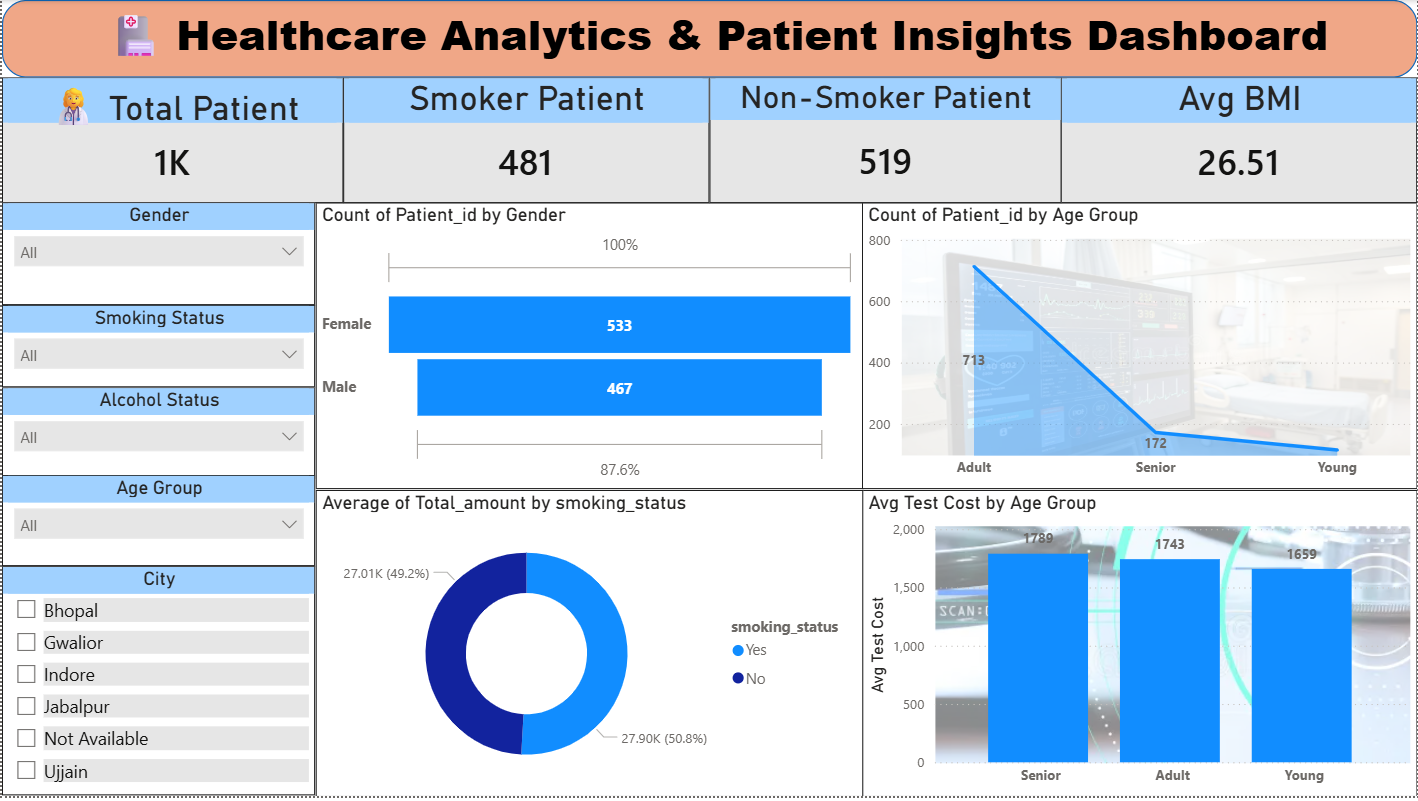

This screenshot's page, from the dashboard's own definition file:
{"tool":"powerbi","page":{"name":"Patient Insights","canvas":[1280,720],"ordinal":1},"visuals":[{"type":"columnChart","fields":{"Category":["patients.Age Group"],"Y":["hospital_visit.Avg Test Cost"]},"box":[778.3,443.1,502,277.7],"z":0},{"type":"donutChart","title":"Average of Total amount by smoking status","fields":{"Category":["lifestyle.smoking_status"],"Y":["Avg(medical_billing.Total_amount)"]},"box":[283.3,443.1,495,277.7],"z":1000},{"type":"funnel","title":"Count of Patient by Gender","fields":{"Category":["medical_cost_prediction patients.Gender"],"Y":["CountNonNull(medical_cost_prediction patients.Patient_id)"]},"box":[283.3,183.7,495,259.4],"z":2000},{"type":"stackedAreaChart","title":"Count of Patient by Age Group","fields":{"Category":["patients.Age Group"],"Y":["CountNonNull(patients.Patient_id)"]},"box":[778.3,183.7,502,259.4],"z":3000},{"type":"cardVisual","title":"Avg BMI","fields":{"Data":["lifestyle.Avg Bmi"]},"box":[957.8,70.1,322.5,113.6],"z":4000},{"type":"cardVisual","title":"Non-Smoker Patient","fields":{"Data":["medical_cost_prediction lifestyle.Non-Smooker"]},"box":[639.4,70.1,318.3,113.6],"z":5000},{"type":"cardVisual","title":"👩⚕️ Total Patient","fields":{"Data":["medical_cost_prediction hospital_visit.Total Patient"]},"box":[0,70.1,308.5,113.6],"z":6000},{"type":"cardVisual","title":"Smoker Patient","fields":{"Data":["medical_cost_prediction lifestyle.Smoking_Patient_Count"]},"box":[308.5,70.1,330.9,113.6],"z":7000},{"type":"slicer","title":"Gender ","fields":{"Values":["medical_cost_prediction patients.Gender"]},"box":[0,183.7,283.3,92.6],"z":8000},{"type":"slicer","title":"Smoking Status","fields":{"Values":["medical_cost_prediction lifestyle.smoking_status"]},"box":[0,276.2,283.3,74.3],"z":9000},{"type":"slicer","title":"Alcohol Status","fields":{"Values":["medical_cost_prediction lifestyle.alcohol_consumption"]},"box":[0,350.6,283.3,82.7],"z":10000},{"type":"slicer","title":"City ","fields":{"Values":["medical_cost_prediction patients.City"]},"box":[0,511.8,283.3,207.5],"z":11000},{"type":"slicer","title":"Age Group","fields":{"Values":["patients.Age Group"]},"box":[0,429.1,283.3,82.7],"z":12000},{"type":"shape","box":[0,0,1280.2,70.1],"z":13000},{"type":"textbox","box":[30.9,0,1232.6,70.1],"z":14000}]}

Visuals, with their boxes in screenshot pixels (x1, y1, x2, y2), scaled from the page's 1280x720 canvas onto the 1418x801 screenshot:
columnChart - patients.Age Group x hospital_visit.Avg Test Cost: l=862, t=493, r=1417, b=800
"Average of Total amount by smoking status" donutChart: l=314, t=493, r=862, b=800
"Count of Patient by Gender" funnel: l=314, t=204, r=862, b=493
"Count of Patient by Age Group" stackedAreaChart: l=862, t=204, r=1417, b=493
"Avg BMI" cardVisual: l=1061, t=78, r=1417, b=204
"Non-Smoker Patient" cardVisual: l=708, t=78, r=1061, b=204
"👩⚕️ Total Patient" cardVisual: l=0, t=78, r=342, b=204
"Smoker Patient" cardVisual: l=342, t=78, r=708, b=204
"Gender " slicer: l=0, t=204, r=314, b=307
"Smoking Status" slicer: l=0, t=307, r=314, b=390
"Alcohol Status" slicer: l=0, t=390, r=314, b=482
"City " slicer: l=0, t=569, r=314, b=800
"Age Group" slicer: l=0, t=477, r=314, b=569
shape: l=0, t=0, r=1417, b=78
textbox: l=34, t=0, r=1400, b=78
